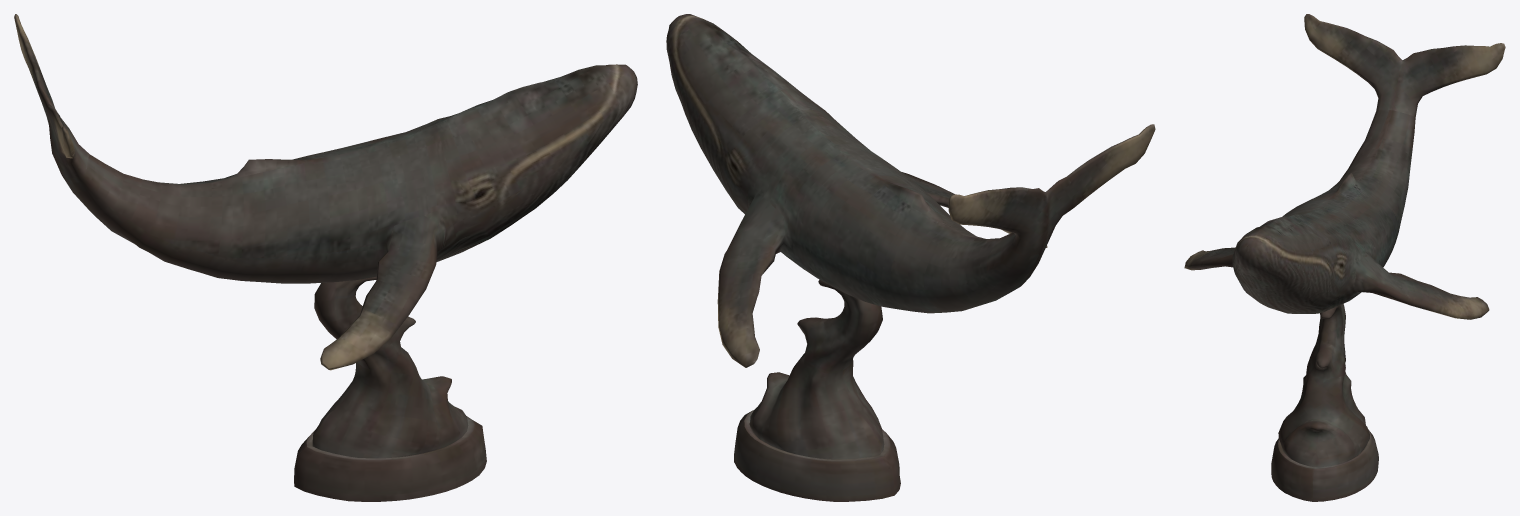
File: naga.glb
3 views of the same model, side by side, from view 1: azimuth 30°, elevation 25°; view 2: azimuth 150°, elevation 25°; view 3: azimuth 270°, elevation 25° (orthographic). The views are drawn at different scales.
Parts seen in each view (by area): view 1: bronze_whale_statue; view 2: bronze_whale_statue; view 3: bronze_whale_statue.
Part boxes in pixels (bbox=[...]): bronze_whale_statue: bbox=[14, 14, 637, 501]; bronze_whale_statue: bbox=[666, 14, 1155, 501]; bronze_whale_statue: bbox=[1184, 14, 1505, 501].
Bounding box in the file's own units: 1.39 × 1.07 × 0.9443.
Materials: 1 (1 with a texture image).
